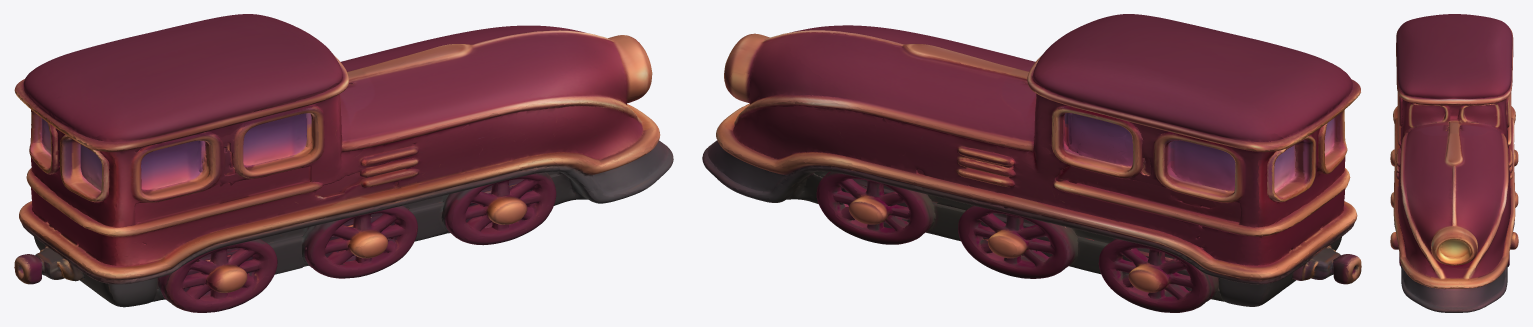
File: train_locomotive.glb
3 renders of one model, left to right at view 1: azimuth 30°, elevation 25°; view 2: azimuth 150°, elevation 25°; view 3: azimuth 270°, elevation 25°, orthographic. The views are drawn at different scales.
Parts seen in each view (by area): view 1: train_locomotive; view 2: train_locomotive; view 3: train_locomotive.
Boxes of the visible parts, x1=… form: train_locomotive: x1=14, y1=14, x2=673, y2=312; train_locomotive: x1=702, y1=14, x2=1361, y2=312; train_locomotive: x1=1390, y1=14, x2=1518, y2=312.
Size of the model in its own units: 10.5 by 3.56 by 2.98.
1 material, 1 textured.
